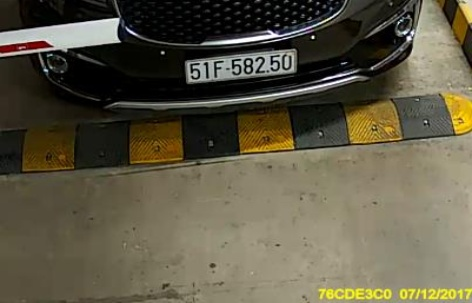plate: (179, 45, 317, 87)
